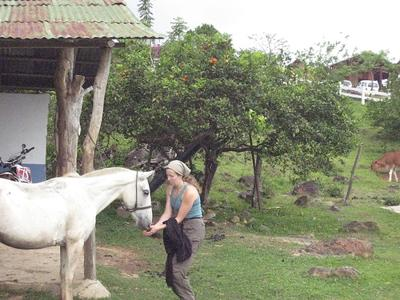person: (146, 161, 207, 297)
